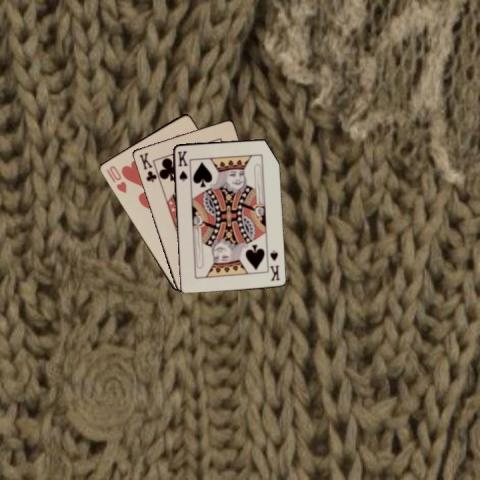10h: (103, 162, 128, 194)
Kc: (136, 150, 157, 184)
Ks: (174, 148, 188, 183), (267, 247, 280, 282)
